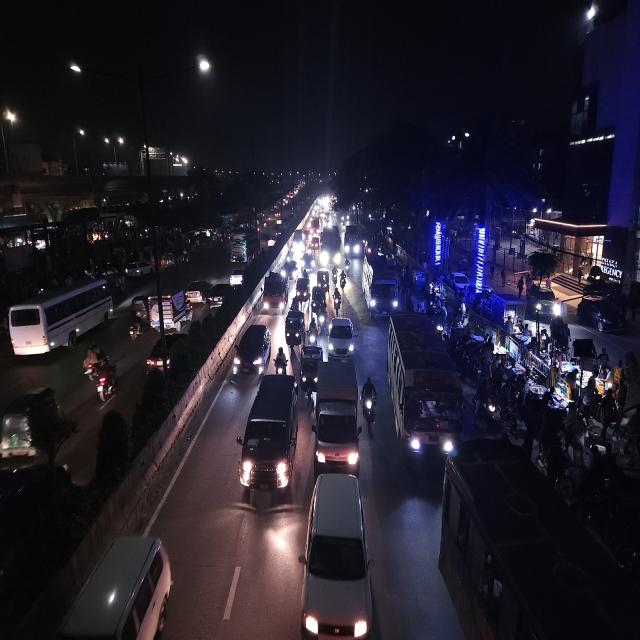bus: (439, 438, 639, 640), (386, 311, 464, 477), (6, 274, 114, 359), (360, 250, 400, 318), (228, 228, 258, 266), (320, 219, 340, 268), (343, 223, 362, 261)
car: (41, 532, 178, 640), (0, 452, 75, 637), (299, 468, 376, 640), (240, 372, 300, 497), (310, 357, 362, 470), (230, 321, 272, 378), (327, 316, 355, 358), (144, 338, 174, 375), (206, 281, 232, 312), (186, 277, 210, 305), (229, 265, 248, 288), (282, 259, 300, 282), (126, 260, 147, 278), (301, 251, 315, 274)
cng: (0, 384, 62, 461), (300, 342, 320, 396), (284, 307, 304, 350), (311, 284, 328, 328), (294, 275, 310, 300), (317, 269, 329, 289), (310, 234, 321, 255)
motorcycle: (92, 357, 120, 406), (80, 342, 109, 380), (362, 372, 378, 430), (126, 314, 144, 342), (274, 345, 290, 374), (332, 287, 343, 316), (308, 316, 318, 346), (342, 258, 350, 282), (340, 272, 349, 292)
truck: (144, 287, 193, 333), (261, 269, 287, 317)
